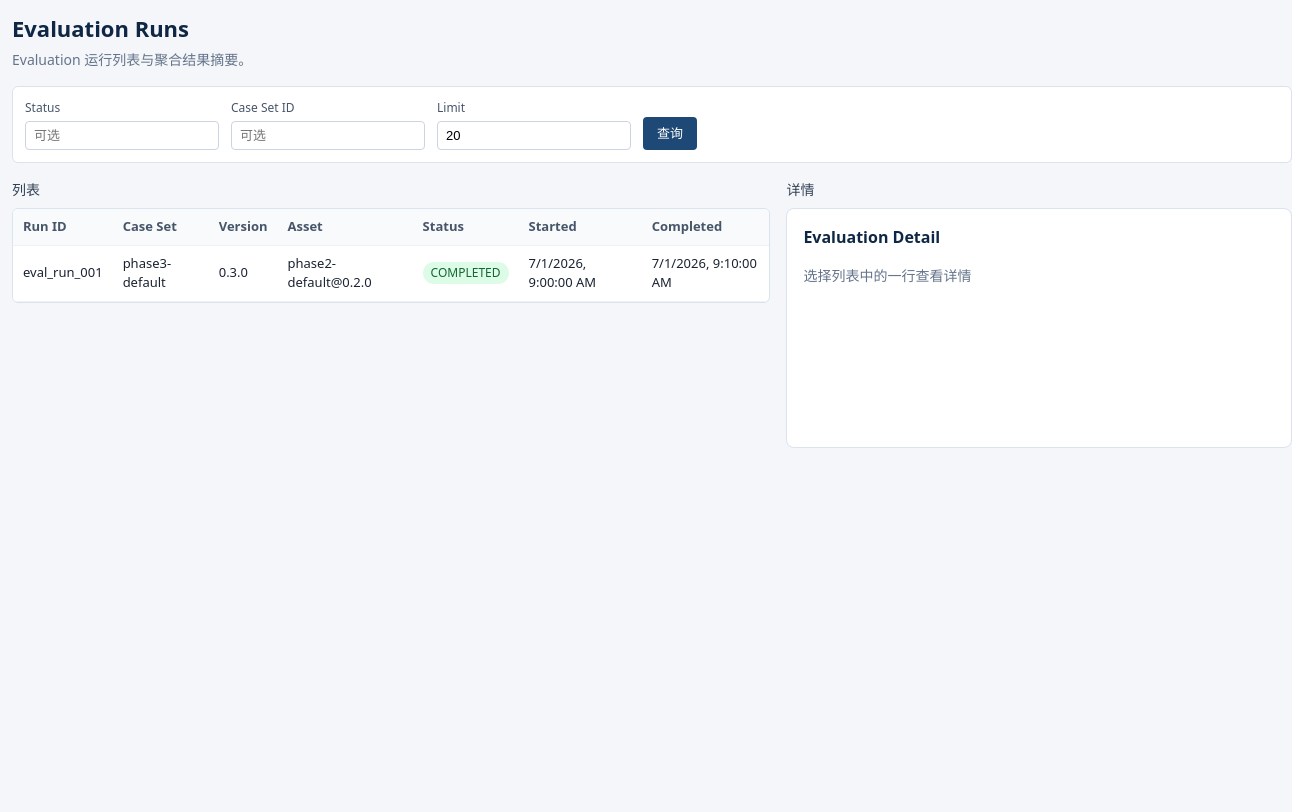
Test case: EvaluationPage › loads evaluation runs and item summary on selection
This screenshot has width=1292, height=812.
Click the text "eval_run_001": (63, 273) [13,245,113,301]
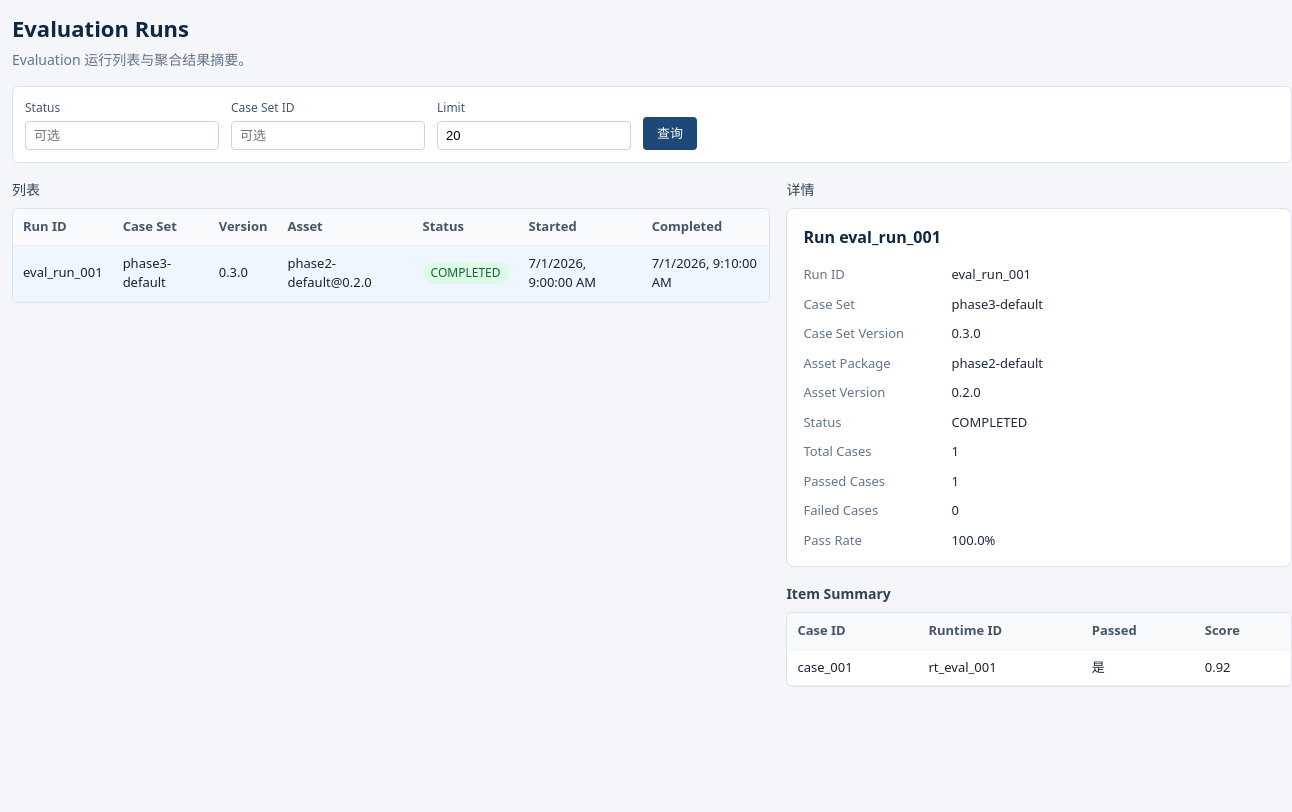
Result: the text "case_001" is shown at [787,649,918,686]
Result: the text "0.92" is shown at [1195,649,1291,686]
